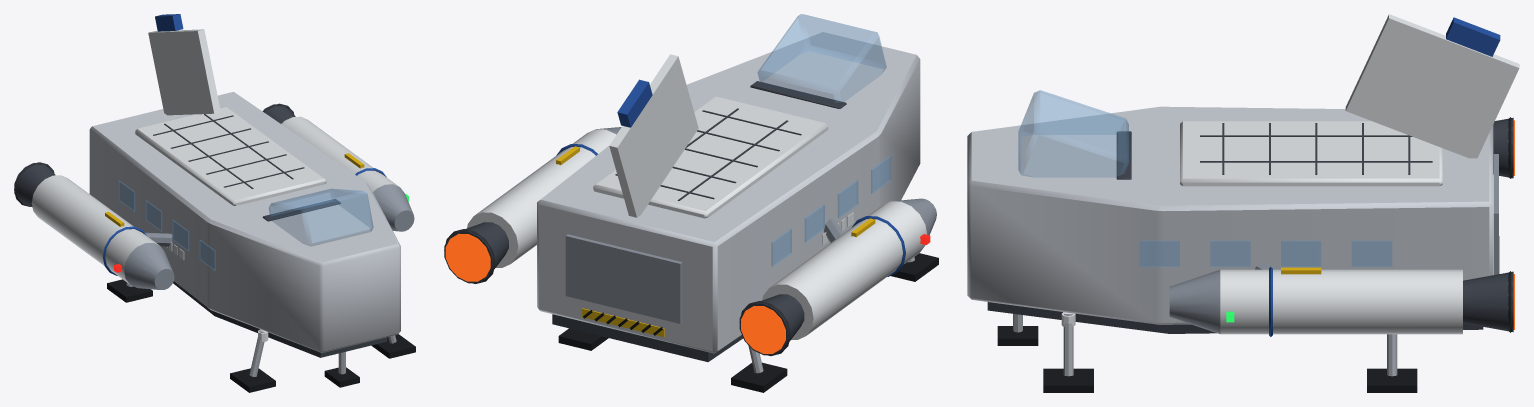
File: craft_shuttlecraft.glb
3 renders of one model, left to right at view 1: azimuth 30°, elevation 25°; view 2: azimuth 150°, elevation 25°; view 3: azimuth 270°, elevation 25°, orthographic. The views are drawn at different scales.
Visible parts, largest first — view 1: craft_shuttlecraft; view 2: craft_shuttlecraft; view 3: craft_shuttlecraft.
Boxes of the visible parts, x1,y1,x2,y2 form: craft_shuttlecraft: [14, 14, 415, 392]; craft_shuttlecraft: [444, 14, 938, 392]; craft_shuttlecraft: [967, 14, 1519, 392].
Size of the model in its own units: 4.38 by 3.53 by 5.46.
